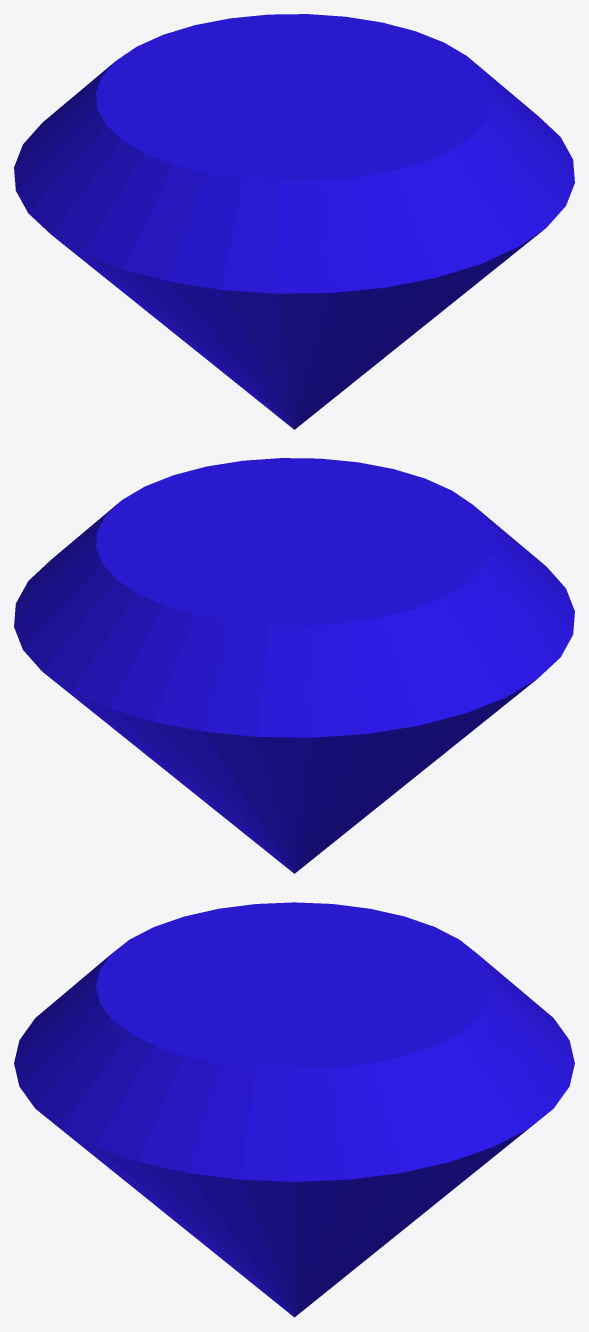
The model's file is Jewelry.gltf.
3 renders of one model, top to bottom at view 1: azimuth 30°, elevation 25°; view 2: azimuth 150°, elevation 25°; view 3: azimuth 270°, elevation 25°, orthographic.
Visible parts, largest first — view 1: Cone; view 2: Cone; view 3: Cone.
Part boxes in pixels (x1,y1,x2,y2): Cone: (14, 14, 574, 429); Cone: (14, 458, 574, 873); Cone: (14, 902, 574, 1317).
Size of the model in its own units: 1 by 0.6516 by 1.
